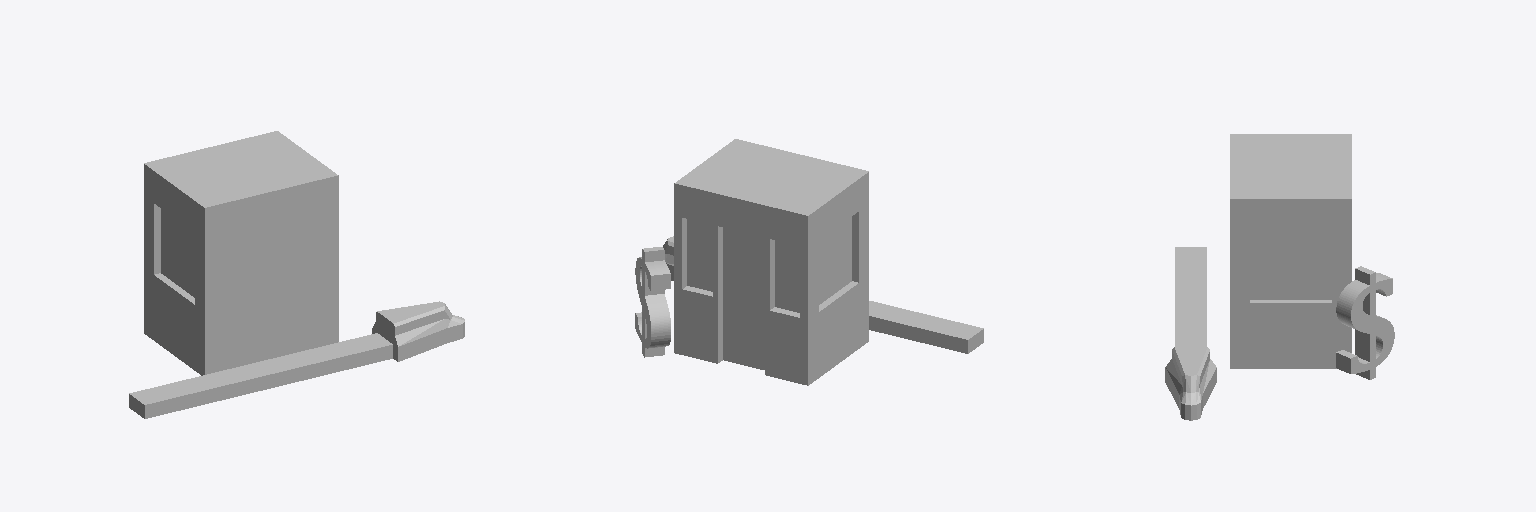
The model's file is tollstation.obj.
3 views of the same model, side by side, from view 1: azimuth 30°, elevation 25°; view 2: azimuth 150°, elevation 25°; view 3: azimuth 270°, elevation 25° (orthographic).
Parts seen in each view (by area): view 1: tollstation; view 2: tollstation; view 3: tollstation.
Boxes of the visible parts, x1=… form: tollstation: x1=129, y1=131, x2=464, y2=418; tollstation: x1=635, y1=139, x2=983, y2=385; tollstation: x1=1165, y1=134, x2=1394, y2=420.
Size of the model in its own units: 1.36 by 0.676 by 0.8269.